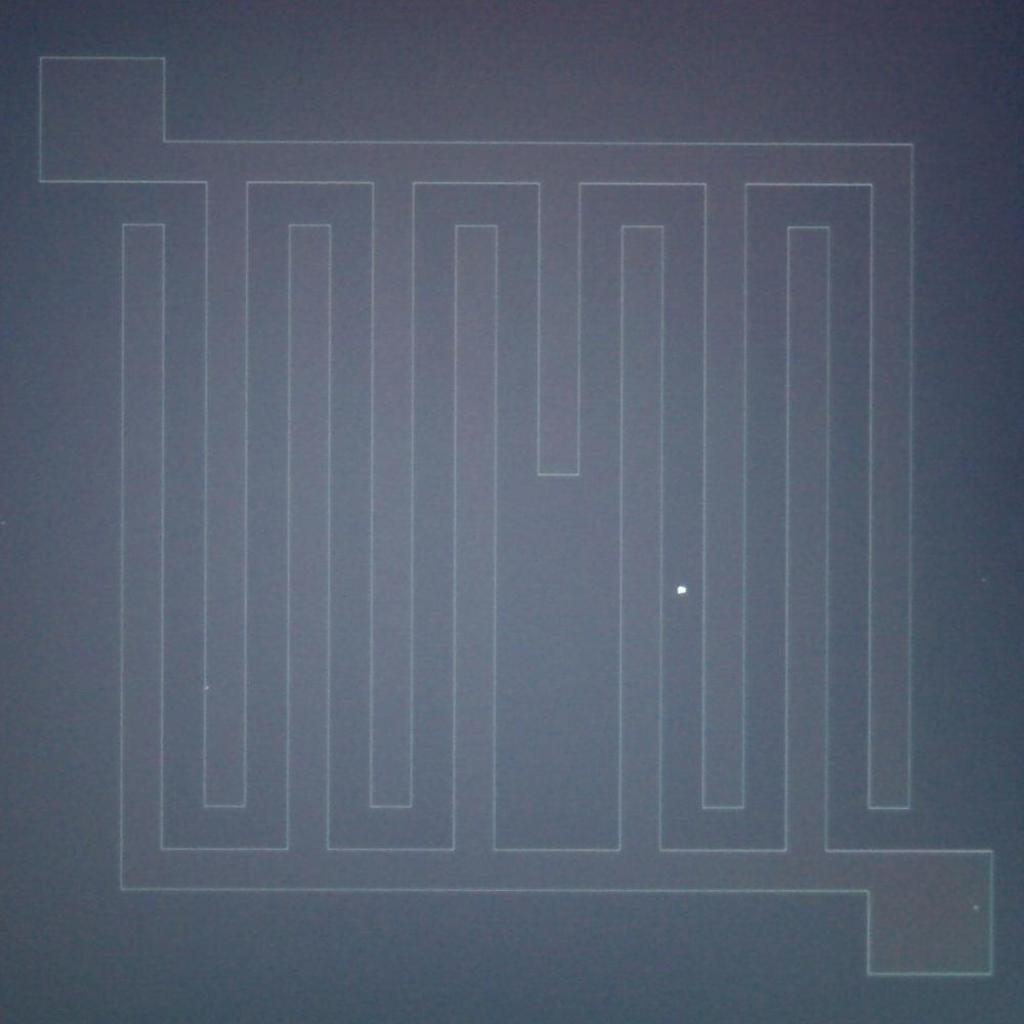dot: (678, 586, 686, 595), (973, 904, 979, 910)
